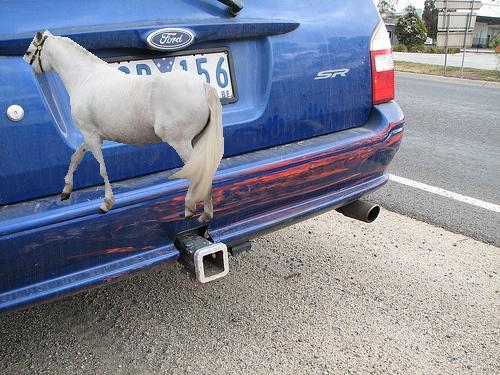tampered: (24, 30, 224, 223)
